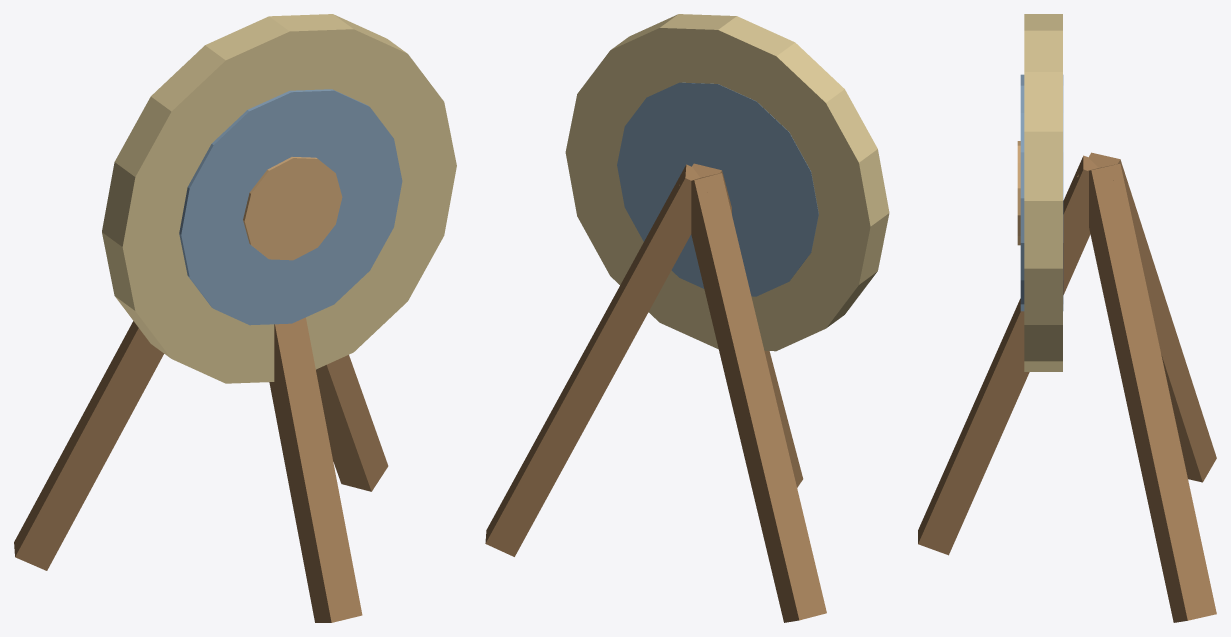
Rendered from archery-target.glb.
The picture shows the model from 3 angles, left to right: view 1: azimuth 30°, elevation 25°; view 2: azimuth 150°, elevation 25°; view 3: azimuth 270°, elevation 25°; orthographic projection. The views are drawn at different scales.
Parts seen in each view (by area): view 1: archery-target; view 2: archery-target; view 3: archery-target.
Part boxes in pixels (x1,y1,x2,y2): archery-target: (14,14,456,622); archery-target: (485,14,889,622); archery-target: (918,14,1216,622).
Bounding box in the file's own units: 1.45 × 2.08 × 1.08.
